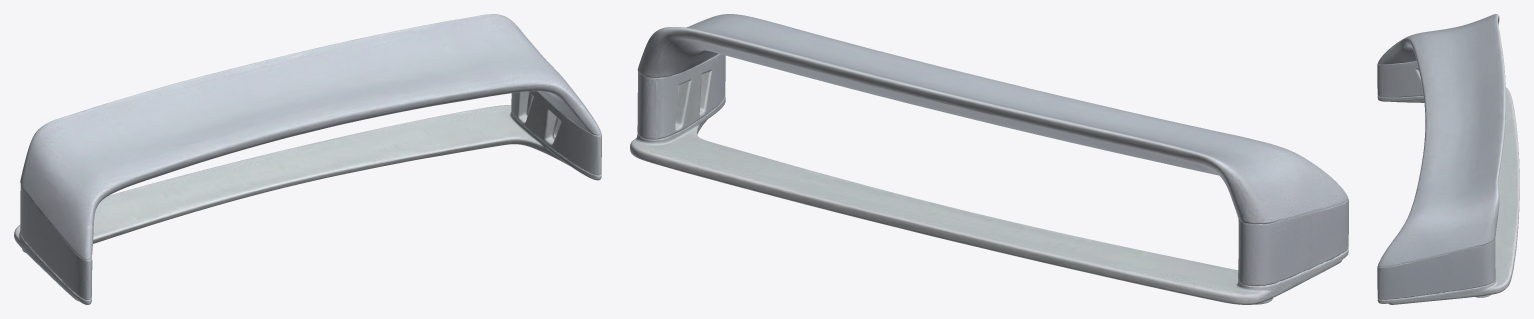
3 renders of one model, left to right at view 1: azimuth 30°, elevation 25°; view 2: azimuth 150°, elevation 25°; view 3: azimuth 270°, elevation 25°, orthographic. The views are drawn at different scales.
Bounding box in the file's own units: 1.9 × 0.4437 × 0.5527.
1 material, 1 textured.
